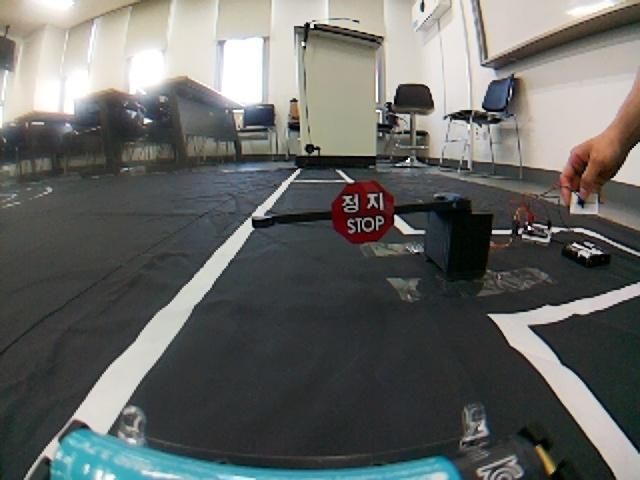sign_stop: (331, 177, 397, 247)
straight: (2, 175, 640, 480)
